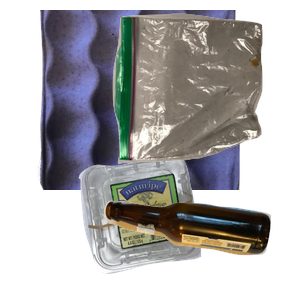glass: (101, 198, 300, 300)
paper: (35, 10, 268, 190)
plastic: (76, 151, 270, 300)
trash: (110, 11, 300, 167)
